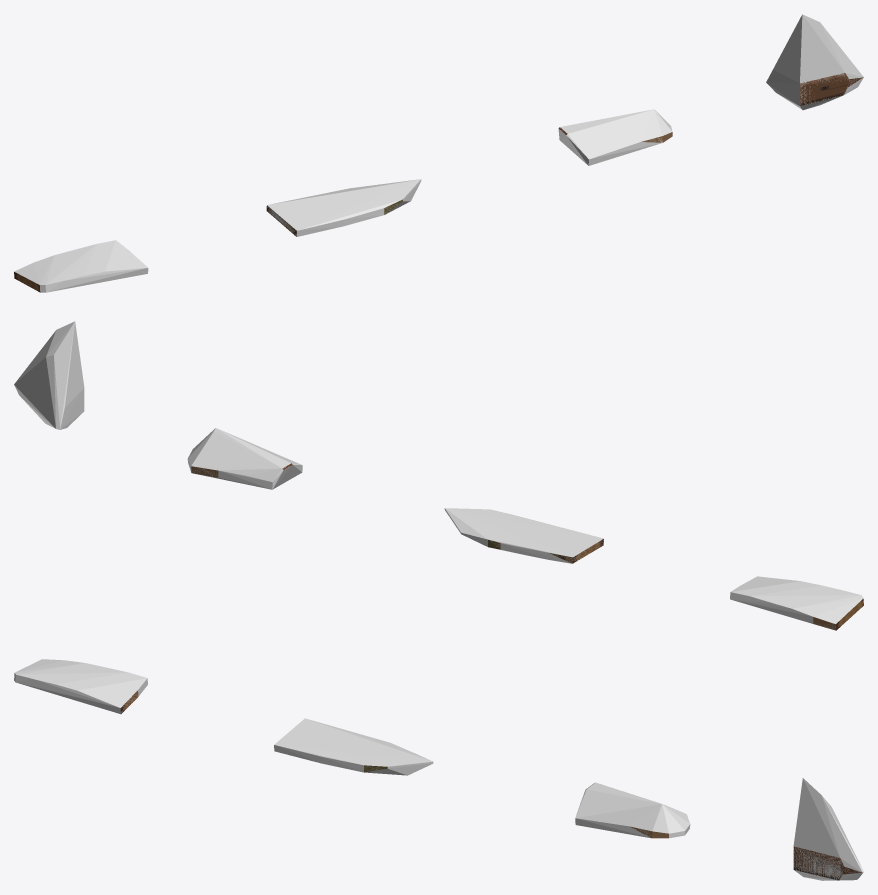
The model's file is SM_DB03_CratePlanks.fbx.
3 views of the same model, one above another, from view 1: azimuth 30°, elevation 25°; view 2: azimuth 150°, elevation 25°; view 3: azimuth 330°, elevation 25° (orthographic). The views are drawn at different scales.
Visible parts, largest first — view 1: DB03_Crate_PlankSplintered_COL, DB03_Crate_Corner_COL, DB03_Crate_PlankShort_COL, DB03_Crate_PlankNail_COL, DB03_Crate_Corner; view 2: DB03_Crate_Corner_COL, DB03_Crate_PlankSplintered_COL, DB03_Crate_PlankNail_COL, DB03_Crate_PlankShort_COL; view 3: DB03_Crate_PlankSplintered_COL, DB03_Crate_Corner_COL, DB03_Crate_PlankShort_COL, DB03_Crate_PlankNail_COL, DB03_Crate_Corner.
Part boxes in pixels (x1=…): DB03_Crate_PlankSplintered_COL: x1=267, y1=179, x2=421, y2=236; DB03_Crate_Corner_COL: x1=766, y1=14, x2=863, y2=110; DB03_Crate_PlankShort_COL: x1=14, y1=240, x2=148, y2=292; DB03_Crate_PlankNail_COL: x1=558, y1=109, x2=672, y2=165; DB03_Crate_Corner: x1=800, y1=73, x2=863, y2=106; DB03_Crate_Corner_COL: x1=14, y1=321, x2=84, y2=429; DB03_Crate_PlankSplintered_COL: x1=444, y1=508, x2=603, y2=563; DB03_Crate_PlankNail_COL: x1=187, y1=428, x2=302, y2=489; DB03_Crate_PlankShort_COL: x1=730, y1=576, x2=863, y2=629; DB03_Crate_PlankSplintered_COL: x1=274, y1=718, x2=433, y2=775; DB03_Crate_Corner_COL: x1=793, y1=778, x2=863, y2=880; DB03_Crate_PlankShort_COL: x1=14, y1=659, x2=147, y2=714; DB03_Crate_PlankNail_COL: x1=575, y1=782, x2=690, y2=838; DB03_Crate_Corner: x1=793, y1=846, x2=862, y2=880.
Size of the model in its own units: 3.16 by 0.3532 by 0.2039.
